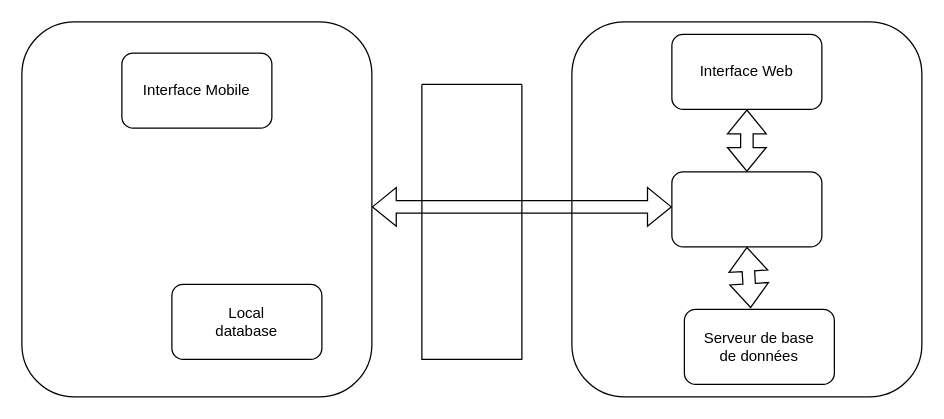
Image size: 944x419. Some labels were removed from this diagram. The centre of each missing label's shape, as x and y in pixels:
"API BACK" belongs at (746,209).
"RESEAU INTERNET" belongs at (471,221).
